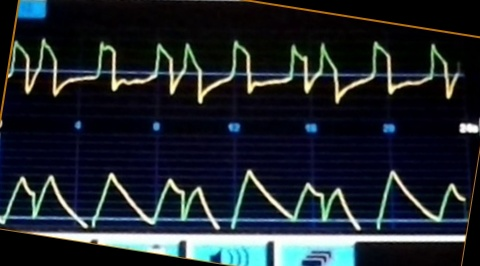Double_Triggering Flow: (9, 37, 346, 109)
Double_Triggering Volume: (1, 165, 361, 229)
